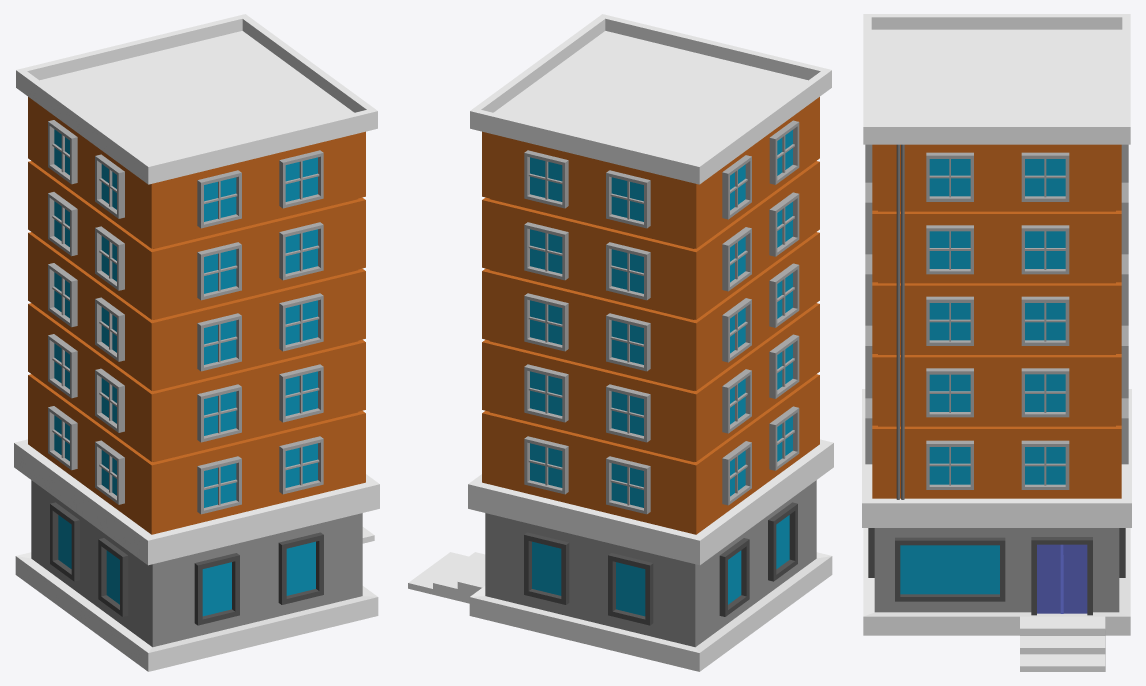
The model's file is building1.fbx.
The picture shows the model from 3 angles, left to right: view 1: azimuth 30°, elevation 25°; view 2: azimuth 150°, elevation 25°; view 3: azimuth 270°, elevation 25°; orthographic projection.
Parts seen in each view (by area): view 1: Base1; view 2: Base1; view 3: Base1, B1Pipes.
Part boxes in pixels (x1,y1,x2,y2): Base1: (14, 14, 379, 671); Base1: (408, 14, 833, 671); Base1: (862, 14, 1131, 671); B1Pipes: (896, 144, 904, 499).
Size of the model in its own units: 403 by 638 by 307.
